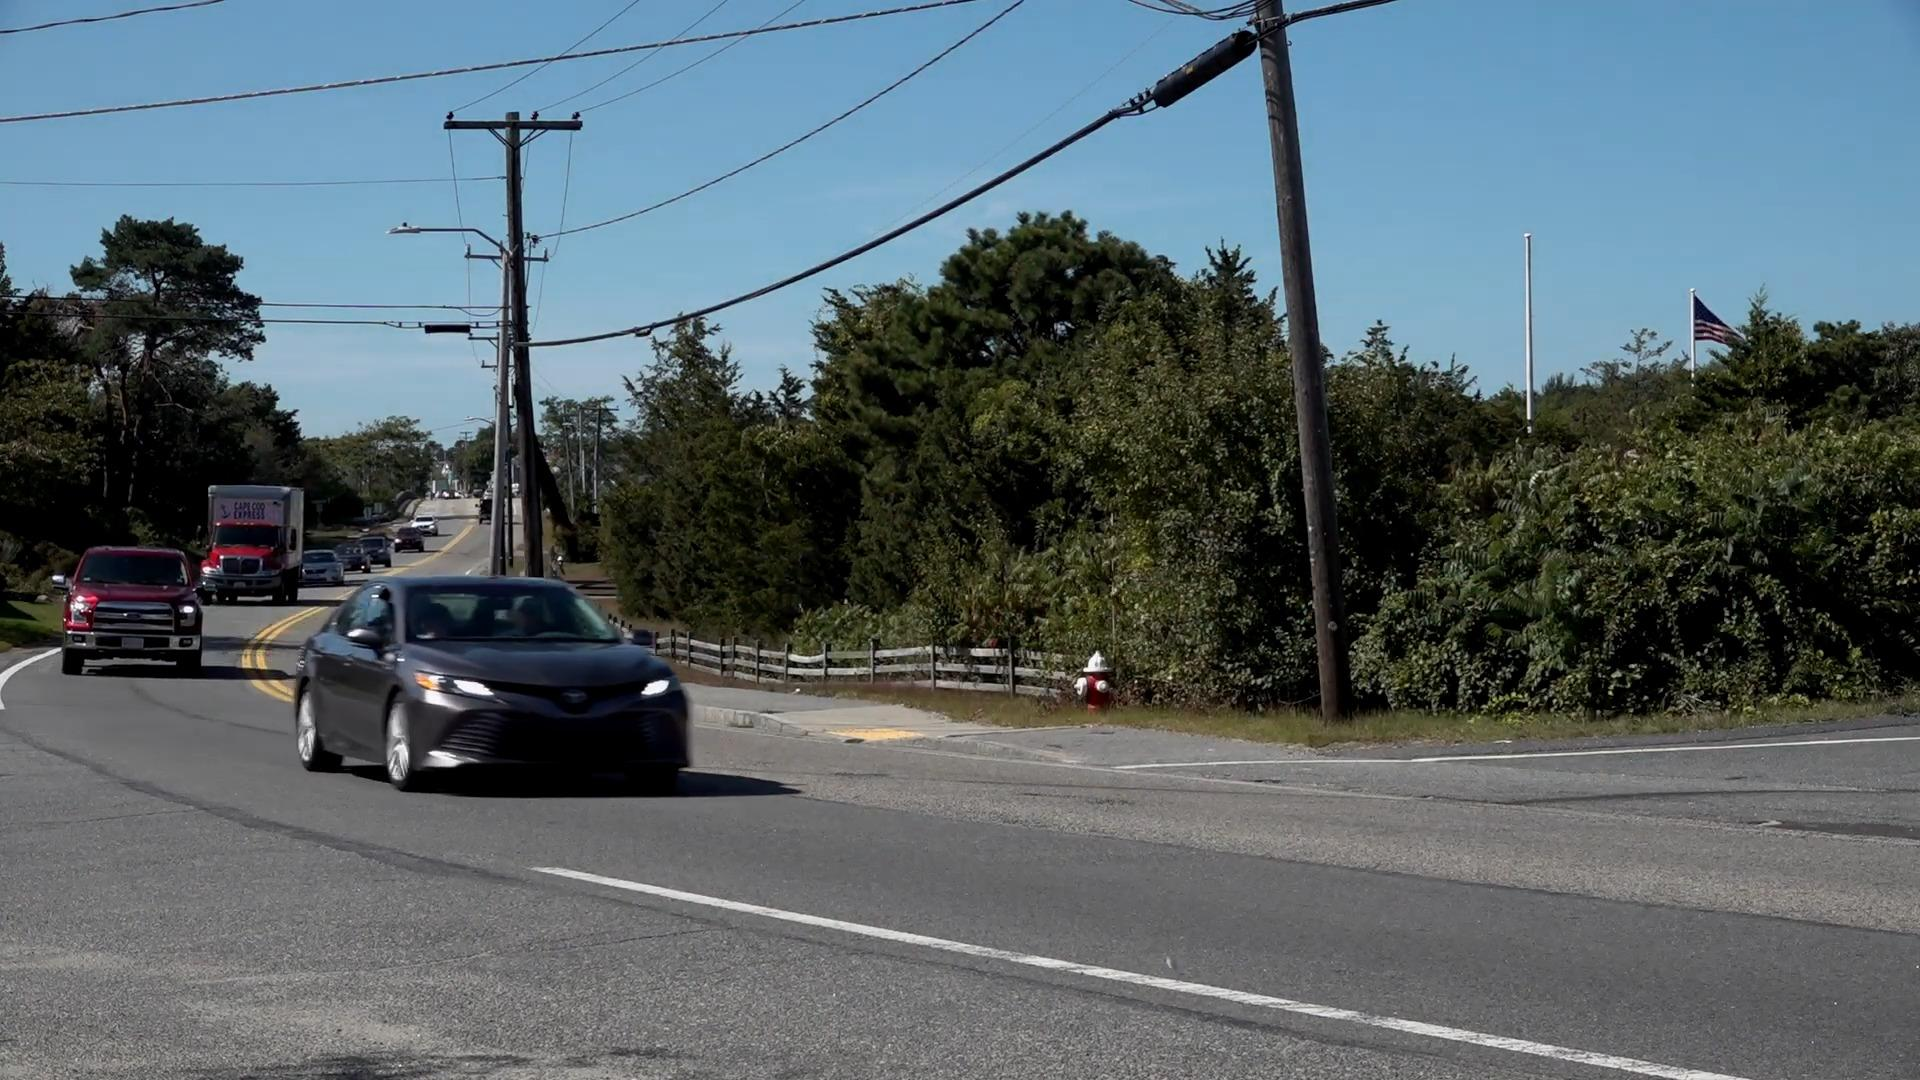pickup: (58, 547, 207, 679)
sedans: (290, 572, 692, 783)
truck: (202, 481, 302, 601)
